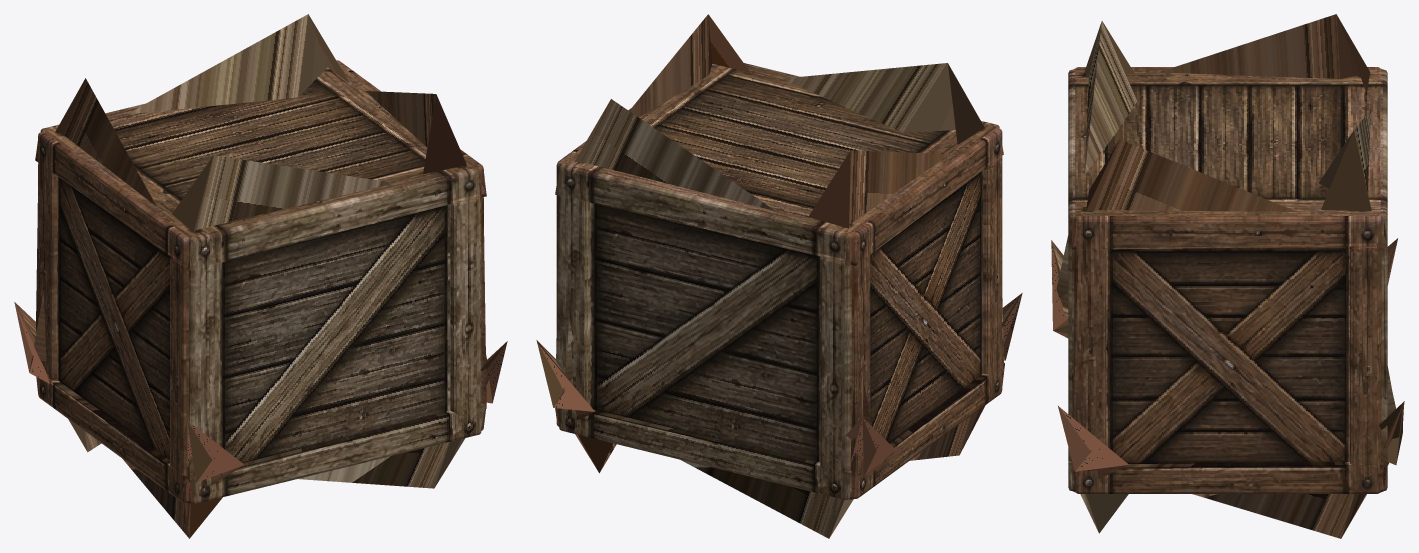
Rendered from crate_slatted.glb.
The picture shows the model from 3 angles, left to right: view 1: azimuth 30°, elevation 25°; view 2: azimuth 150°, elevation 25°; view 3: azimuth 270°, elevation 25°; orthographic projection. The views are drawn at different scales.
Visible parts, largest first — view 1: body, piece_00, piece_02, piece_03, piece_04, piece_01, piece_09, piece_08, piece_06; view 2: body, piece_00, piece_03, piece_02, piece_08, piece_04, piece_07, piece_01, piece_09; view 3: body, piece_00, piece_03, piece_04, piece_01, piece_02, piece_07, piece_06.
Part boxes in pixels (x1,y1,x2,y2): body: (35, 60, 486, 503); piece_00: (14, 296, 507, 538); piece_02: (116, 150, 365, 344); piece_03: (37, 65, 293, 276); piece_04: (216, 14, 403, 149); piece_01: (294, 92, 486, 272); piece_09: (119, 278, 299, 393); piece_08: (37, 220, 119, 342); piece_06: (450, 261, 485, 342); body: (555, 63, 1004, 499); piece_00: (537, 282, 1022, 538); piece_03: (686, 150, 933, 309); piece_02: (791, 63, 1003, 239); piece_08: (687, 266, 877, 395); piece_04: (556, 71, 694, 262); piece_07: (536, 230, 687, 362); piece_01: (662, 14, 818, 122); piece_09: (983, 233, 1002, 292); body: (1068, 67, 1387, 493); piece_00: (1051, 235, 1403, 538); piece_03: (1208, 14, 1387, 154); piece_04: (1201, 119, 1387, 301); piece_01: (1068, 139, 1208, 317); piece_02: (1068, 21, 1218, 158); piece_07: (1201, 283, 1404, 405); piece_06: (1068, 302, 1201, 396).
Size of the model in its own units: 0.9096 by 1.02 by 0.8103.
Materials: 1 (1 with a texture image).
